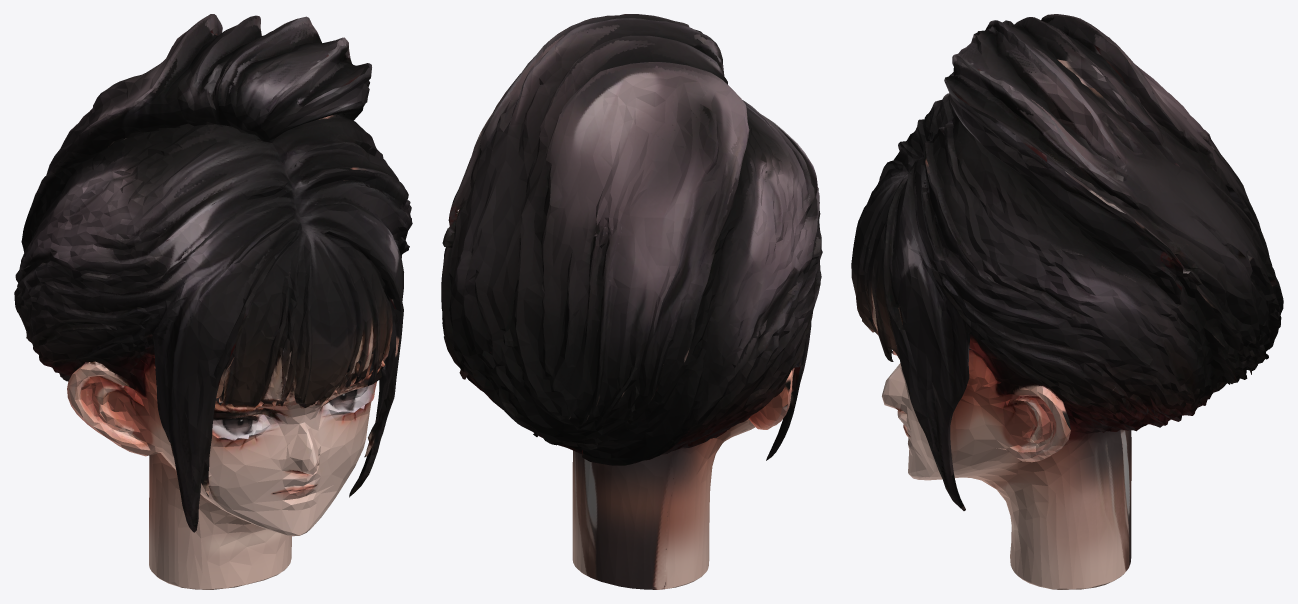
Rendered from side_himeko_repaired_atlas.glb.
3 renders of one model, left to right at view 1: azimuth 30°, elevation 25°; view 2: azimuth 150°, elevation 25°; view 3: azimuth 270°, elevation 25°, orthographic. The views are drawn at different scales.
Parts seen in each view (by area): view 1: temp_mesh.ply; view 2: temp_mesh.ply; view 3: temp_mesh.ply.
Boxes of the visible parts, <box> form: temp_mesh.ply: <box>14,14,412,589</box>; temp_mesh.ply: <box>441,14,822,589</box>; temp_mesh.ply: <box>851,14,1283,589</box>.
Size of the model in its own units: 1.34 by 1.97 by 1.44.
1 material, 1 textured.
